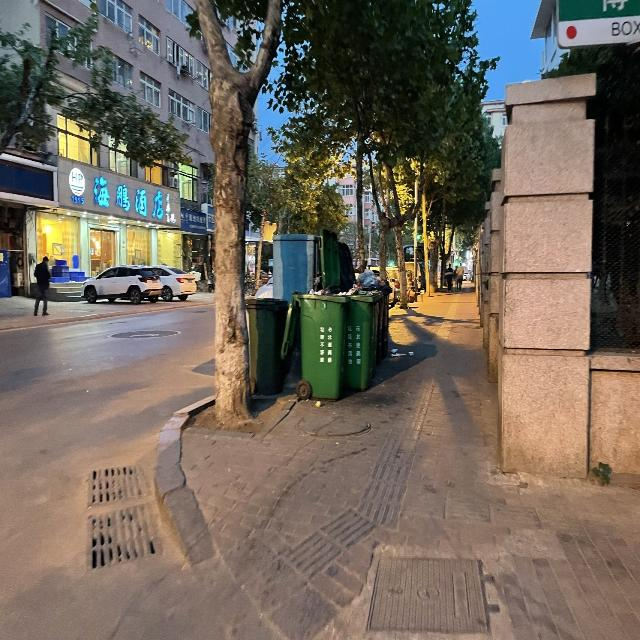garbage_bin: (245, 297, 288, 393)
overflow: (280, 288, 350, 402), (334, 282, 382, 390), (356, 269, 392, 362)
